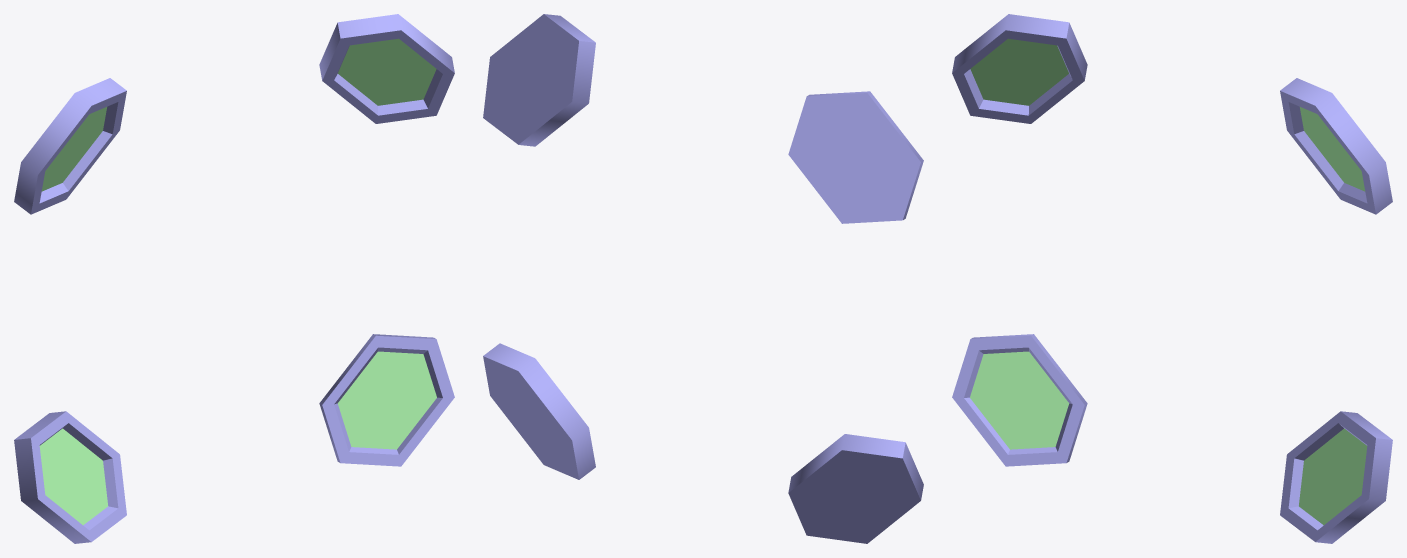
Rendered from receivers.fbx.
3 renders of one model, left to right at view 1: azimuth 30°, elevation 25°; view 2: azimuth 150°, elevation 25°; view 3: azimuth 330°, elevation 25°, orthographic.
Visible parts, largest first — view 1: polymsh; view 2: polymsh; view 3: polymsh.
Boxes of the visible parts, bbox=[...] form: polymsh: bbox=[14, 14, 454, 543]; polymsh: bbox=[483, 14, 923, 543]; polymsh: bbox=[952, 14, 1392, 543].
Bounding box in the file's own units: 10.89 × 10.89 × 1.54.
